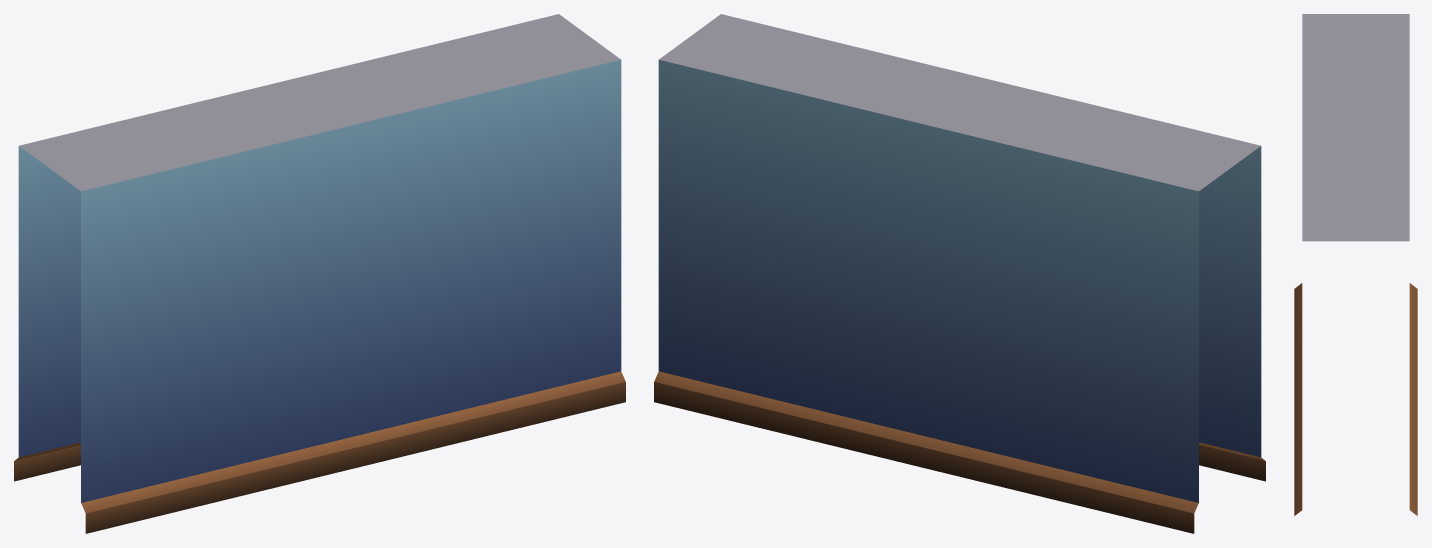
Rendered from wall_light_blue.fbx.
3 views of the same model, side by side, from view 1: azimuth 30°, elevation 25°; view 2: azimuth 150°, elevation 25°; view 3: azimuth 270°, elevation 25° (orthographic). The views are drawn at different scales.
Parts seen in each view (by area): view 1: SM_wall_light_blue; view 2: SM_wall_light_blue; view 3: SM_wall_light_blue.
Boxes of the visible parts, x1,y1,x2,y2 form: SM_wall_light_blue: (14, 14, 625, 533); SM_wall_light_blue: (654, 14, 1265, 533); SM_wall_light_blue: (1294, 14, 1417, 515).
Bounding box in the file's own units: 500 × 300 × 115.
